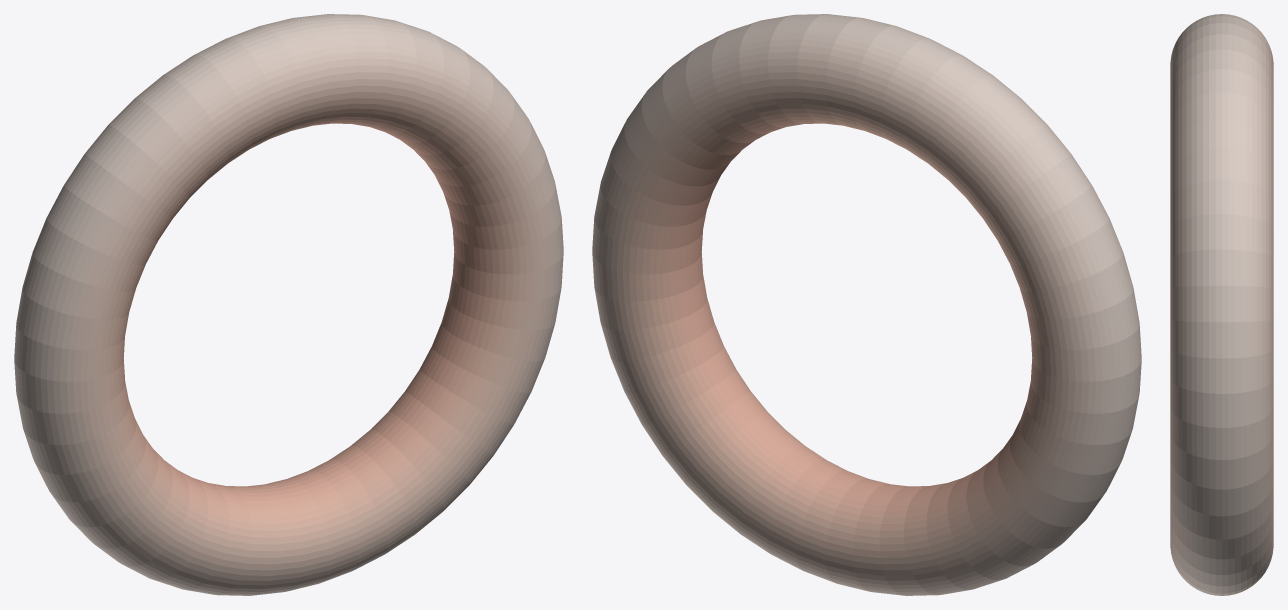
3 views of the same model, side by side, from view 1: azimuth 30°, elevation 25°; view 2: azimuth 150°, elevation 25°; view 3: azimuth 270°, elevation 25° (orthographic). The views are drawn at different scales.
Visible parts, largest first — view 1: world; view 2: world; view 3: world.
Boxes of the visible parts, x1,y1,x2,y2 form: world: (14, 14, 563, 595); world: (592, 14, 1141, 595); world: (1170, 14, 1273, 595).
Size of the model in its own units: 30.8 by 30.74 by 5.46.
